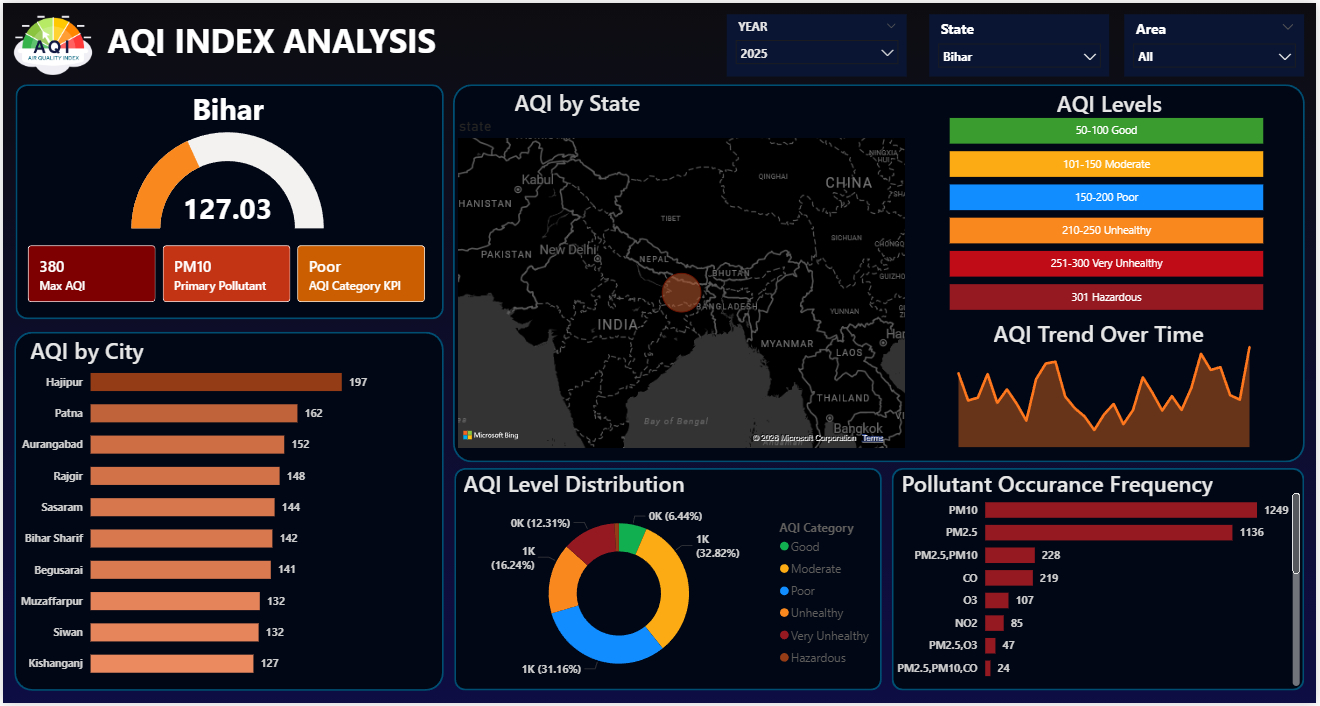

Layout of this report page (visuals, bound fields, positions):
{"tool":"powerbi","page":{"name":"AQI Index Analysis","canvas":[1500,800],"ordinal":0},"visuals":[{"type":"textbox","box":[114.5,12.3,399.5,70.9],"z":0},{"type":"shape","box":[13.6,92.7,489.4,268.6],"z":1000},{"type":"image","box":[0,12.3,114.5,70.9],"z":2000},{"type":"gauge","fields":{"Y":["day_wise_aqi_data.AVF AQI"]},"box":[57.3,143.2,399.5,120],"z":3000},{"type":"slicer","fields":{"Values":["Calendar Table.YEAR"]},"box":[827.5,12.3,205.9,70.9],"z":4000},{"type":"slicer","fields":{"Values":["day_wise_aqi_data.state"]},"box":[1057.9,12.3,205.9,70.9],"z":5000},{"type":"slicer","fields":{"Values":["day_wise_aqi_data.area"]},"box":[1281.5,12.3,205.9,70.9],"z":6000},{"type":"cardVisual","fields":{"Data":["Max(day_wise_aqi_data.aqi_value)","day_wise_aqi_data.Primary Pollutant","day_wise_aqi_data.AQI Category KPI"]},"box":[10.9,260.4,489.4,99.5],"z":7000},{"type":"cardVisual","fields":{"Data":["day_wise_aqi_data.KPI Title"]},"box":[35.4,83.2,443.1,70.9],"z":8000},{"type":"shape","box":[514,92.7,973.4,432.2],"z":9000},{"type":"map","fields":{"Category":["day_wise_aqi_data.state"]},"box":[515,130,520,383.3],"z":10000},{"type":"cardVisual","fields":{"Data":["day_wise_aqi_data.State Map Title"]},"box":[514,77.7,284.9,70.9],"z":11000},{"type":"hundredPercentStackedBarChart","fields":{"Category":["day_wise_aqi_data.AQI Category"],"Y":["day_wise_aqi_data.Label"]},"box":[1076.7,118.3,368.3,238.3],"z":12000},{"type":"cardVisual","fields":{"Data":["day_wise_aqi_data.AQI Level Title"]},"box":[1124.3,77.1,280,71.4],"z":13000},{"type":"areaChart","fields":{"Category":["Calendar Table.Date.Variation.Date Hierarchy.Day"],"Y":["day_wise_aqi_data.AVG AQI"]},"box":[1077,361.3,362.6,151.3],"z":14000},{"type":"cardVisual","fields":{"Data":["day_wise_aqi_data.Title For Monthly Chart"]},"box":[1077.1,334.3,350,65.7],"z":15000},{"type":"shape","box":[12.3,376.3,490.8,410.4],"z":16000},{"type":"barChart","fields":{"Category":["day_wise_aqi_data.area"],"Y":["day_wise_aqi_data.AVG AQI"]},"box":[14.3,395.7,475.7,390],"z":17000},{"type":"cardVisual","fields":{"Data":["day_wise_aqi_data.Title For City"]},"box":[0,354.3,192.9,82.9],"z":18000},{"type":"shape","box":[515.7,531.4,488.6,254.3],"z":19000},{"type":"donutChart","fields":{"Category":["day_wise_aqi_data.AQI Category"],"Y":["day_wise_aqi_data.Count of Rows"]},"box":[515.7,564.3,488.6,221.4],"z":20000},{"type":"shape","box":[1015.7,531.4,471.4,254.3],"z":21000},{"type":"cardVisual","fields":{"Data":["day_wise_aqi_data.Donut Title"]},"box":[457.1,512.9,391.4,68.6],"z":22000},{"type":"barChart","fields":{"Y":["day_wise_aqi_data.Count of Rows"],"Category":["day_wise_aqi_data.prominent_pollutants"]},"box":[1015.7,547.1,471.4,238.6],"z":23000},{"type":"cardVisual","fields":{"Data":["day_wise_aqi_data.Pollutant Title"]},"box":[951.4,512.9,507.1,68.6],"z":24000}]}

Visuals, with their boxes in screenshot pixels (x1, y1, x2, y2), scaled from the page's 1500x800 canvas onto the 1320x706 screenshot:
textbox: [101, 11, 452, 73]
shape: [12, 82, 443, 319]
image: [0, 11, 101, 73]
gauge - day_wise_aqi_data.AVF AQI: [50, 126, 402, 232]
slicer - Calendar Table.YEAR: [728, 11, 909, 73]
slicer - day_wise_aqi_data.state: [931, 11, 1112, 73]
slicer - day_wise_aqi_data.area: [1128, 11, 1309, 73]
cardVisual - Max(day_wise_aqi_data.aqi_value) x day_wise_aqi_data.Primary Pollutant: [10, 230, 440, 318]
cardVisual - day_wise_aqi_data.KPI Title: [31, 73, 421, 136]
shape: [452, 82, 1309, 463]
map - day_wise_aqi_data.state: [453, 115, 911, 453]
cardVisual - day_wise_aqi_data.State Map Title: [452, 69, 703, 131]
hundredPercentStackedBarChart - day_wise_aqi_data.AQI Category x day_wise_aqi_data.Label: [947, 104, 1272, 315]
cardVisual - day_wise_aqi_data.AQI Level Title: [989, 68, 1236, 131]
areaChart - Calendar Table.Date.Variation.Date Hierarchy.Day x day_wise_aqi_data.AVG AQI: [948, 319, 1267, 452]
cardVisual - day_wise_aqi_data.Title For Monthly Chart: [948, 295, 1256, 353]
shape: [11, 332, 443, 694]
barChart - day_wise_aqi_data.area x day_wise_aqi_data.AVG AQI: [13, 349, 431, 693]
cardVisual - day_wise_aqi_data.Title For City: [0, 313, 170, 386]
shape: [454, 469, 884, 693]
donutChart - day_wise_aqi_data.AQI Category x day_wise_aqi_data.Count of Rows: [454, 498, 884, 693]
shape: [894, 469, 1309, 693]
cardVisual - day_wise_aqi_data.Donut Title: [402, 453, 747, 513]
barChart - day_wise_aqi_data.Count of Rows x day_wise_aqi_data.prominent_pollutants: [894, 483, 1309, 693]
cardVisual - day_wise_aqi_data.Pollutant Title: [837, 453, 1283, 513]
